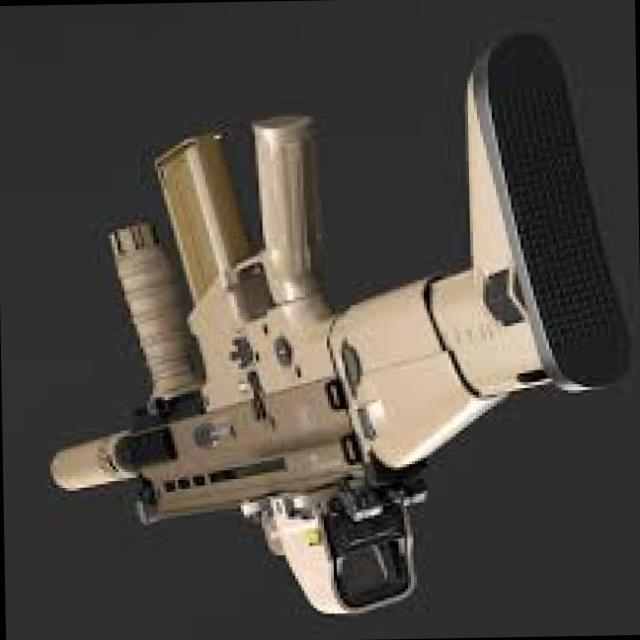Gun: (0, 39, 630, 640)
